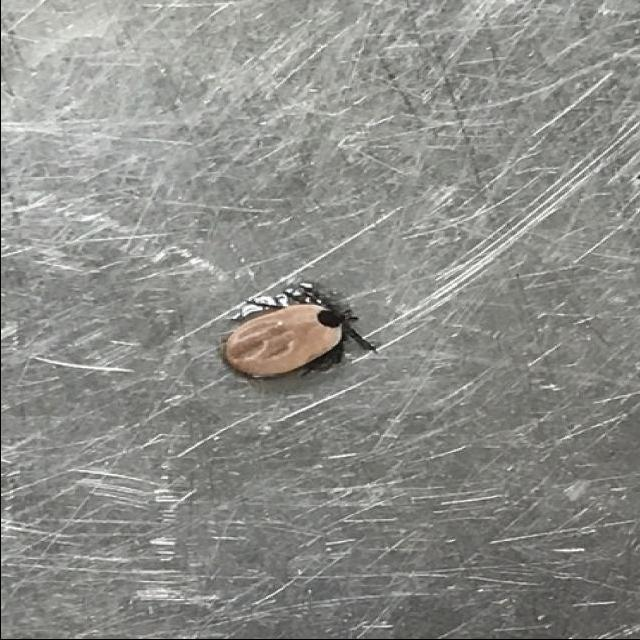Ixodes Ricinus-F-Fed: (217, 284, 368, 383)
